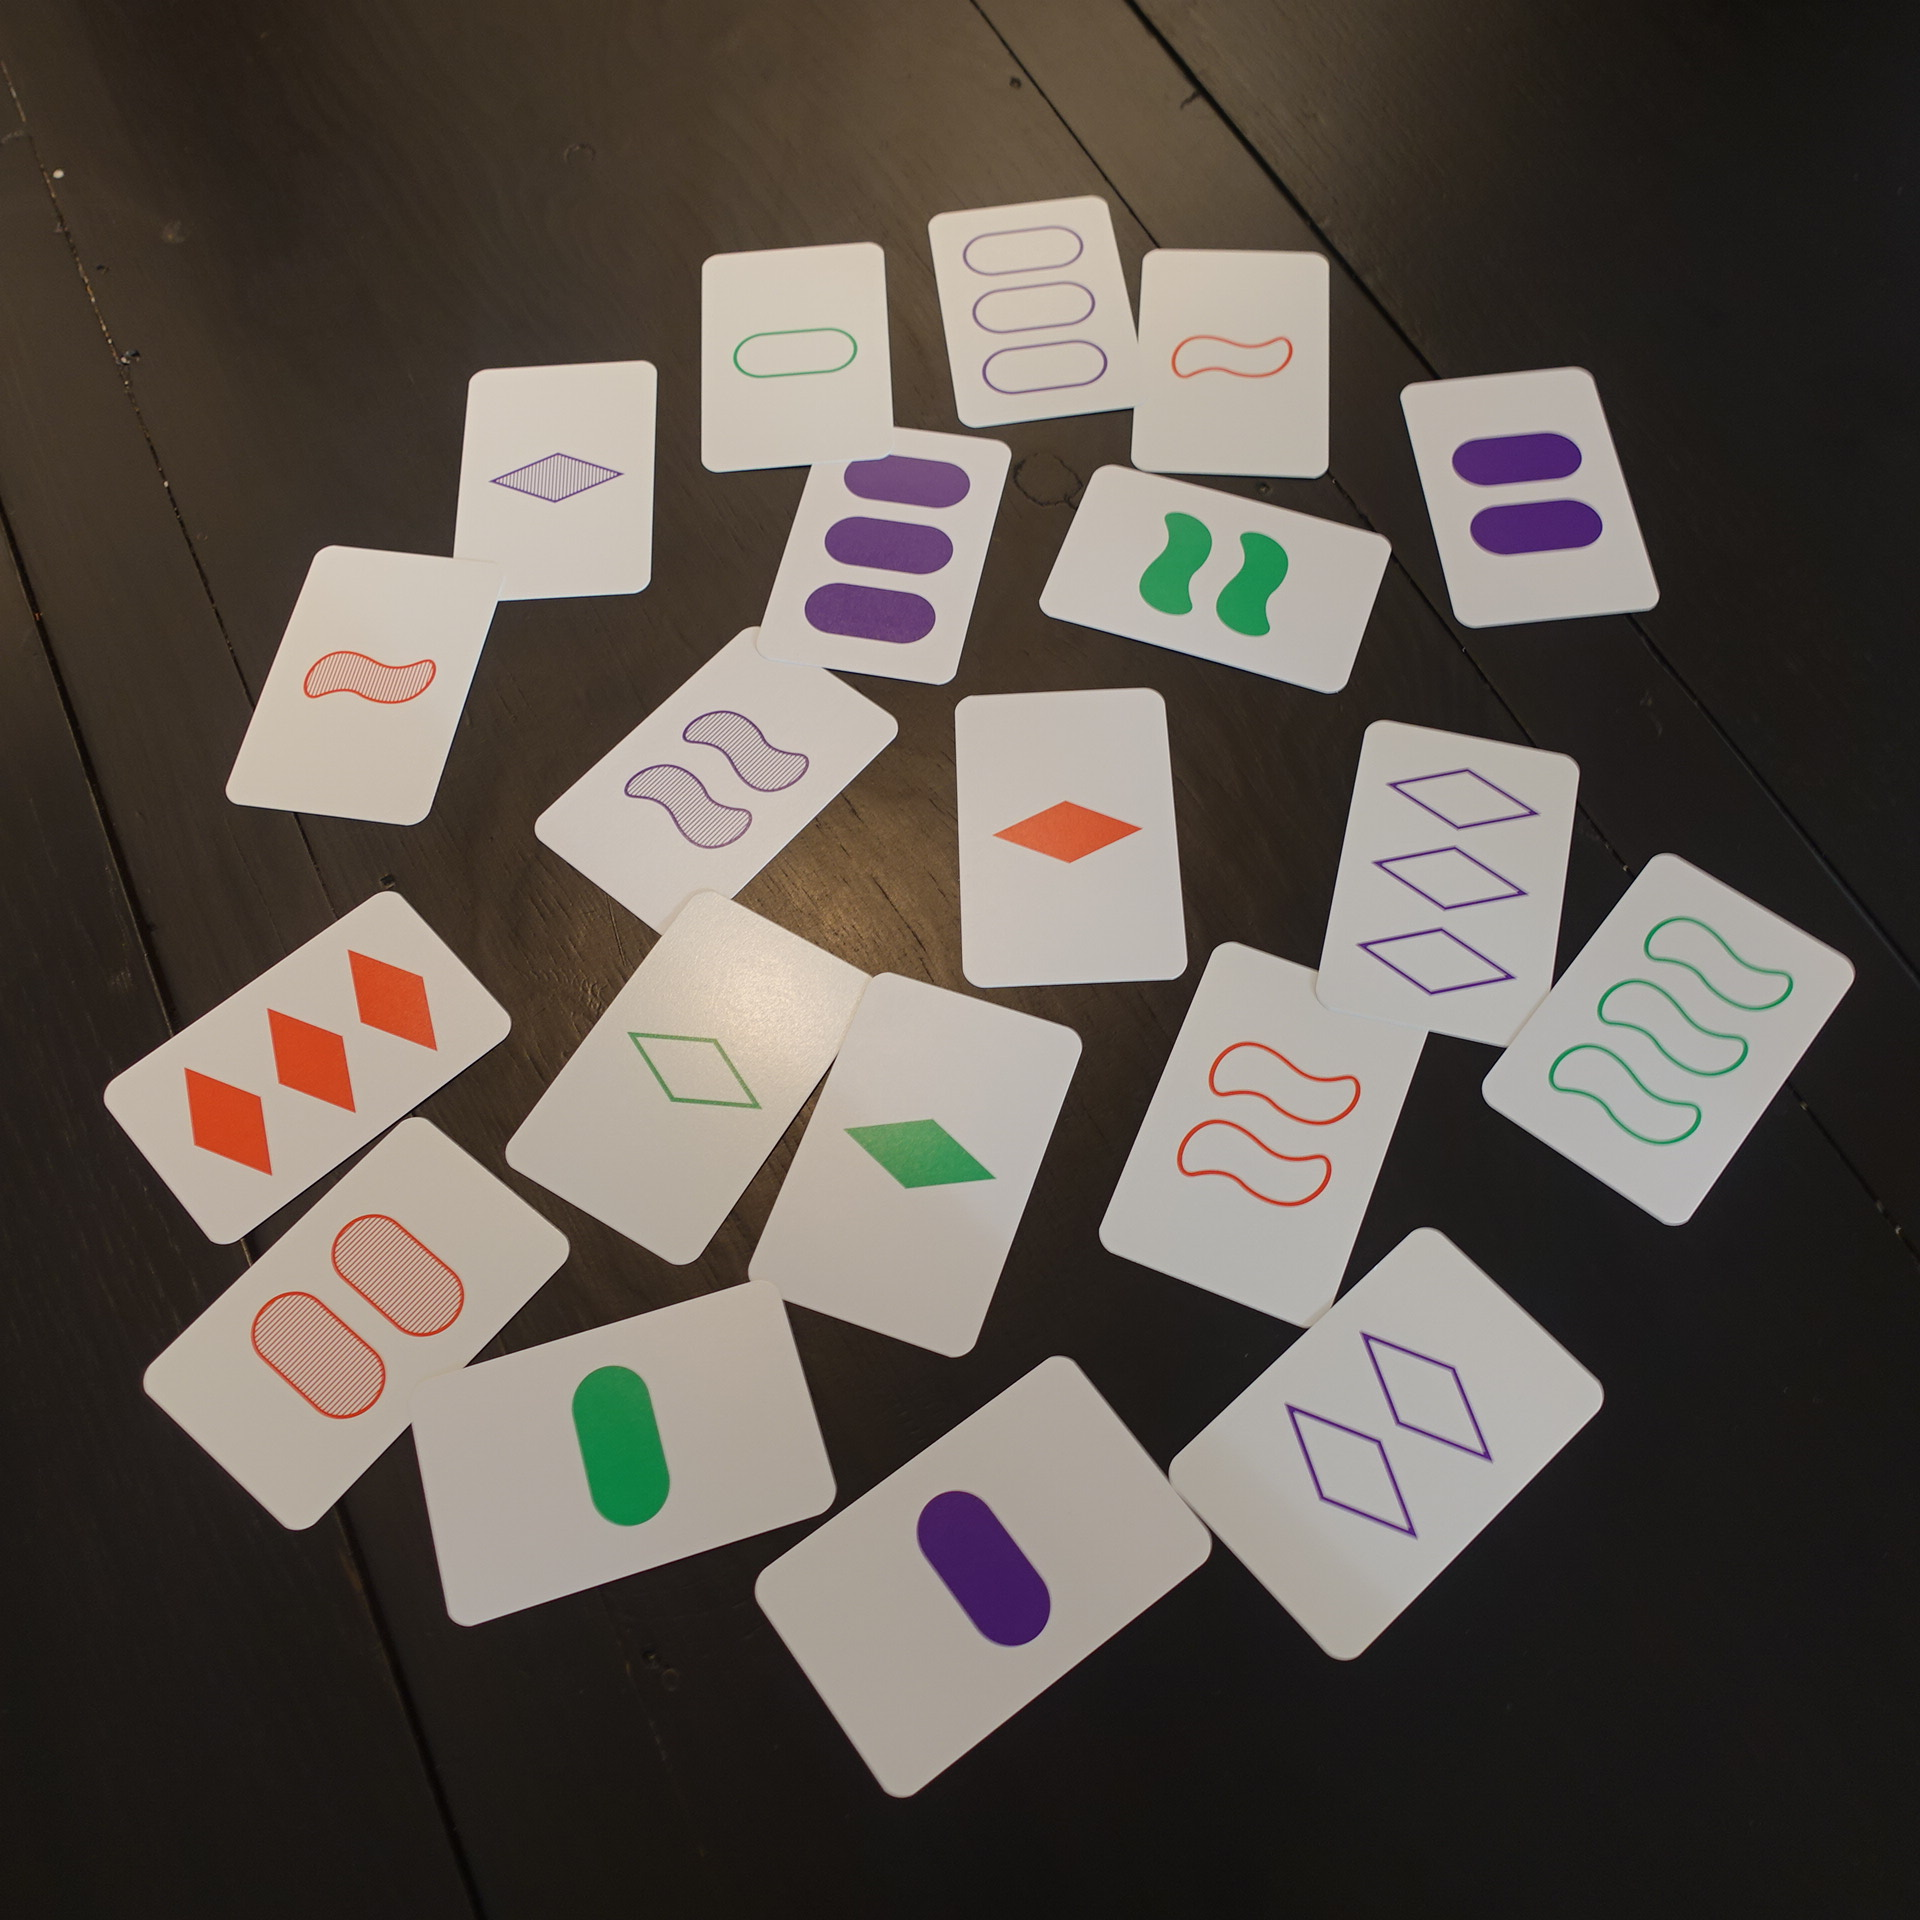c-1-f-d-g: (747, 1349, 1218, 1806), (1166, 1218, 1614, 1674), (125, 1108, 575, 1544), (396, 1271, 842, 1639), (91, 883, 522, 1254), (494, 884, 891, 1273), (1475, 847, 1862, 1231), (740, 958, 1092, 1366), (1087, 934, 1438, 1336), (527, 617, 907, 948), (1315, 712, 1589, 1067), (1030, 448, 1398, 705), (209, 529, 508, 837), (941, 679, 1196, 1004), (1391, 353, 1670, 642), (751, 411, 1016, 695), (914, 188, 1150, 440), (441, 352, 666, 607), (1115, 243, 1340, 491), (687, 232, 904, 484)
